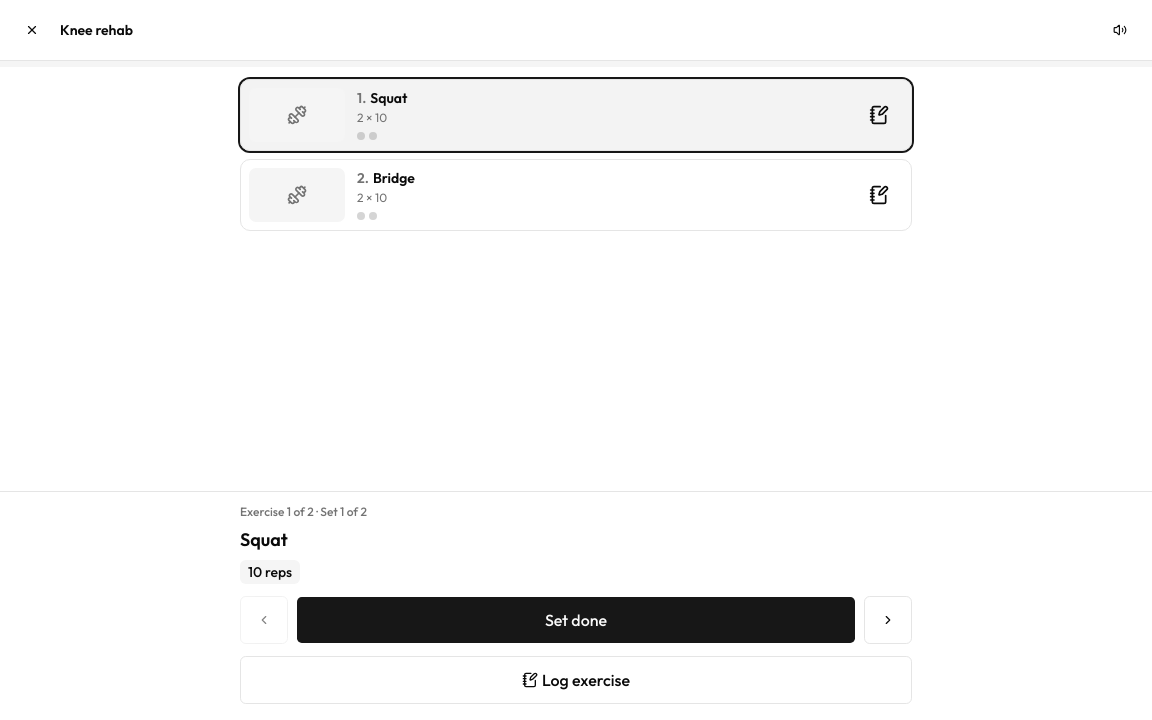
it: WorkoutPlayer › opens and closes the current exercise's inline log from the bar
What coordinates should you click on to do the following:
click the button named "Next"
I would click on:
 (888, 620)
Its box is [864,596,912,644].
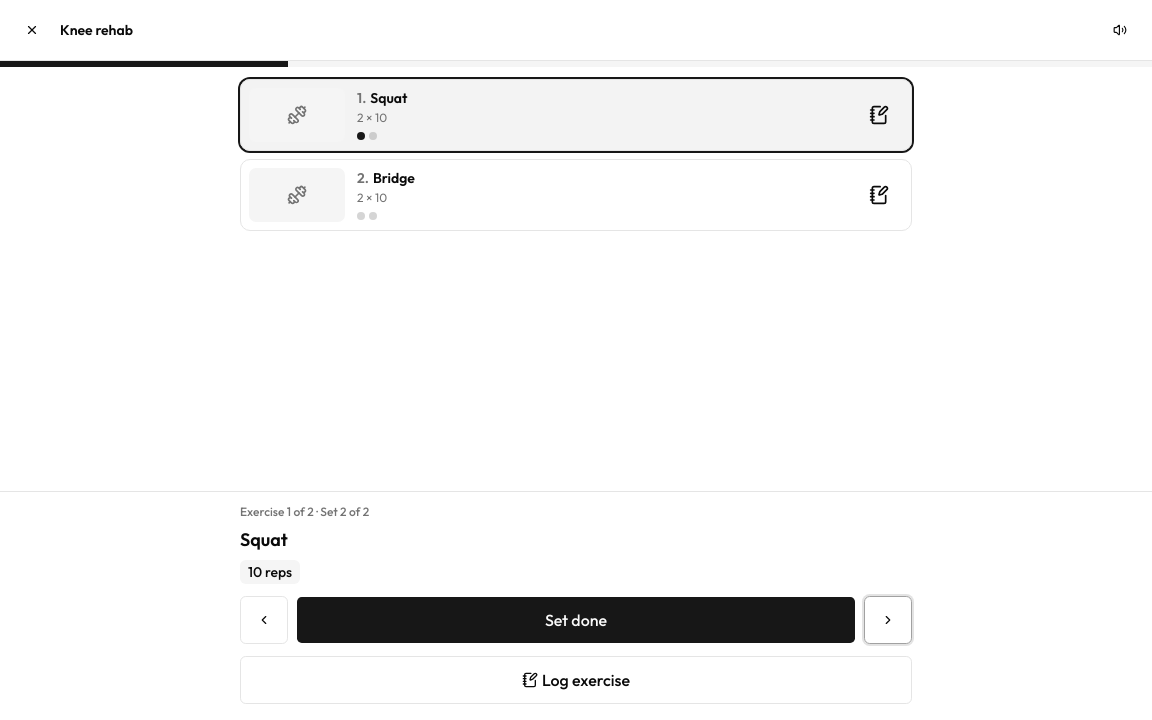
What coordinates should you click on to do the following:
click the button named "Next"
I would click on:
 (888, 620)
Its box is [864,596,912,644].
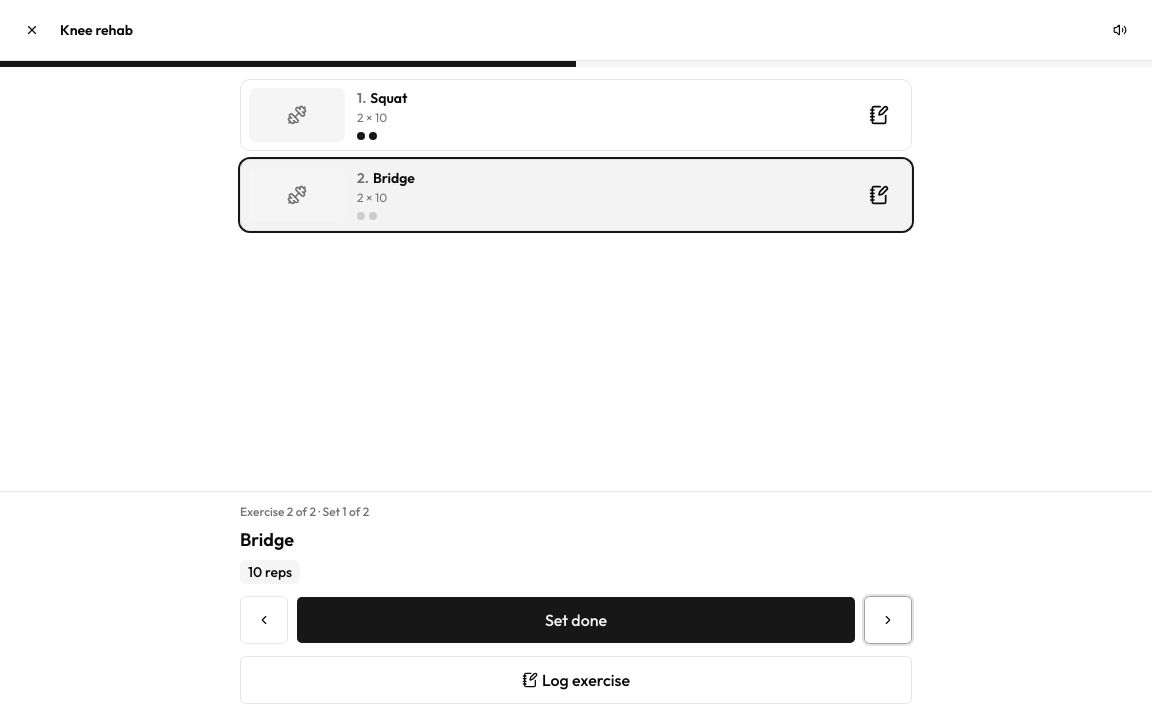
What coordinates should you click on to do the following:
click the button "Log exercise"
I would click on:
 (576, 680)
Its box is [240,656,912,704].
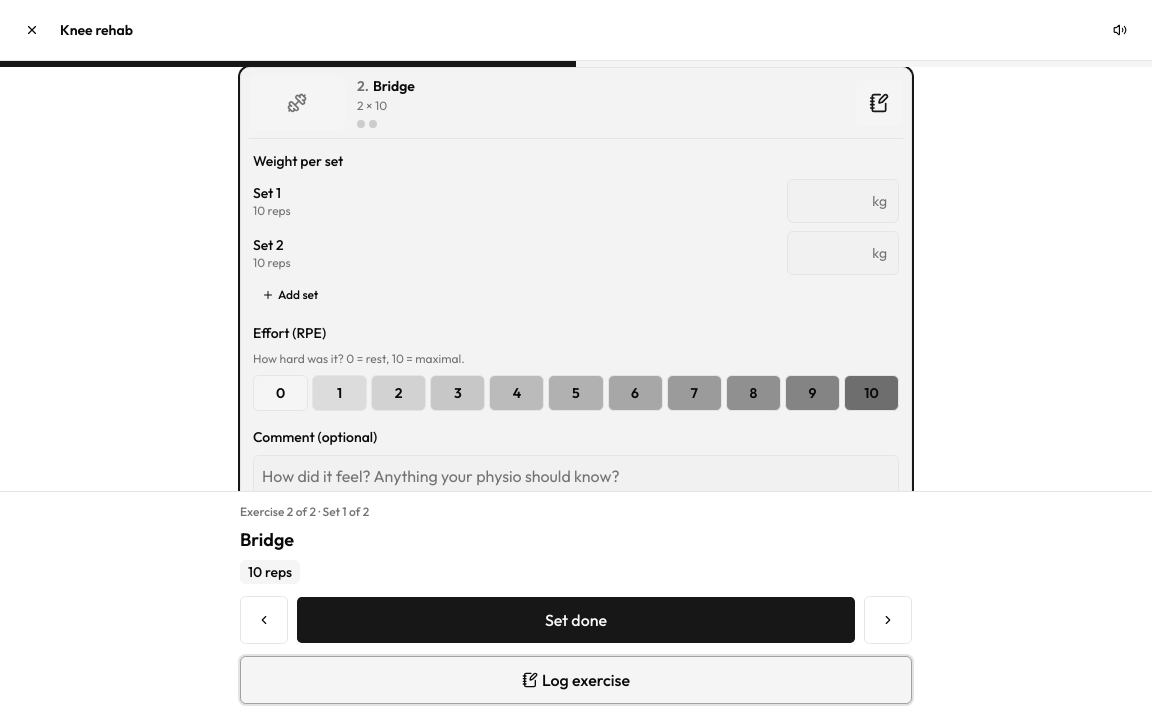
expect the element named "How did Bridge go?" is shown: met, box [249,138,903,491]
expect the button named "Log Bridge" is expanded: met, box [855,79,903,127]
What coordinates should you click on to do the following:
click the button "Log exercise"
I would click on:
 (576, 680)
Its box is [240,656,912,704].
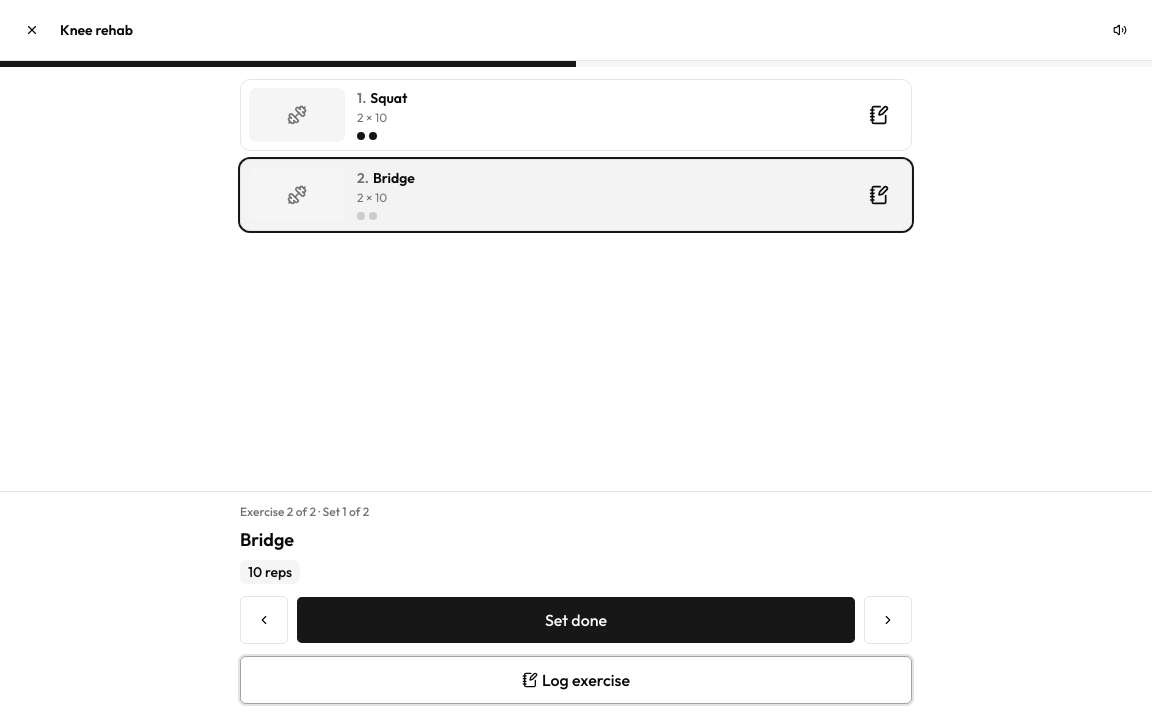
expect the button named "Log Bridge" is collapsed: met, box [855,171,903,219]
